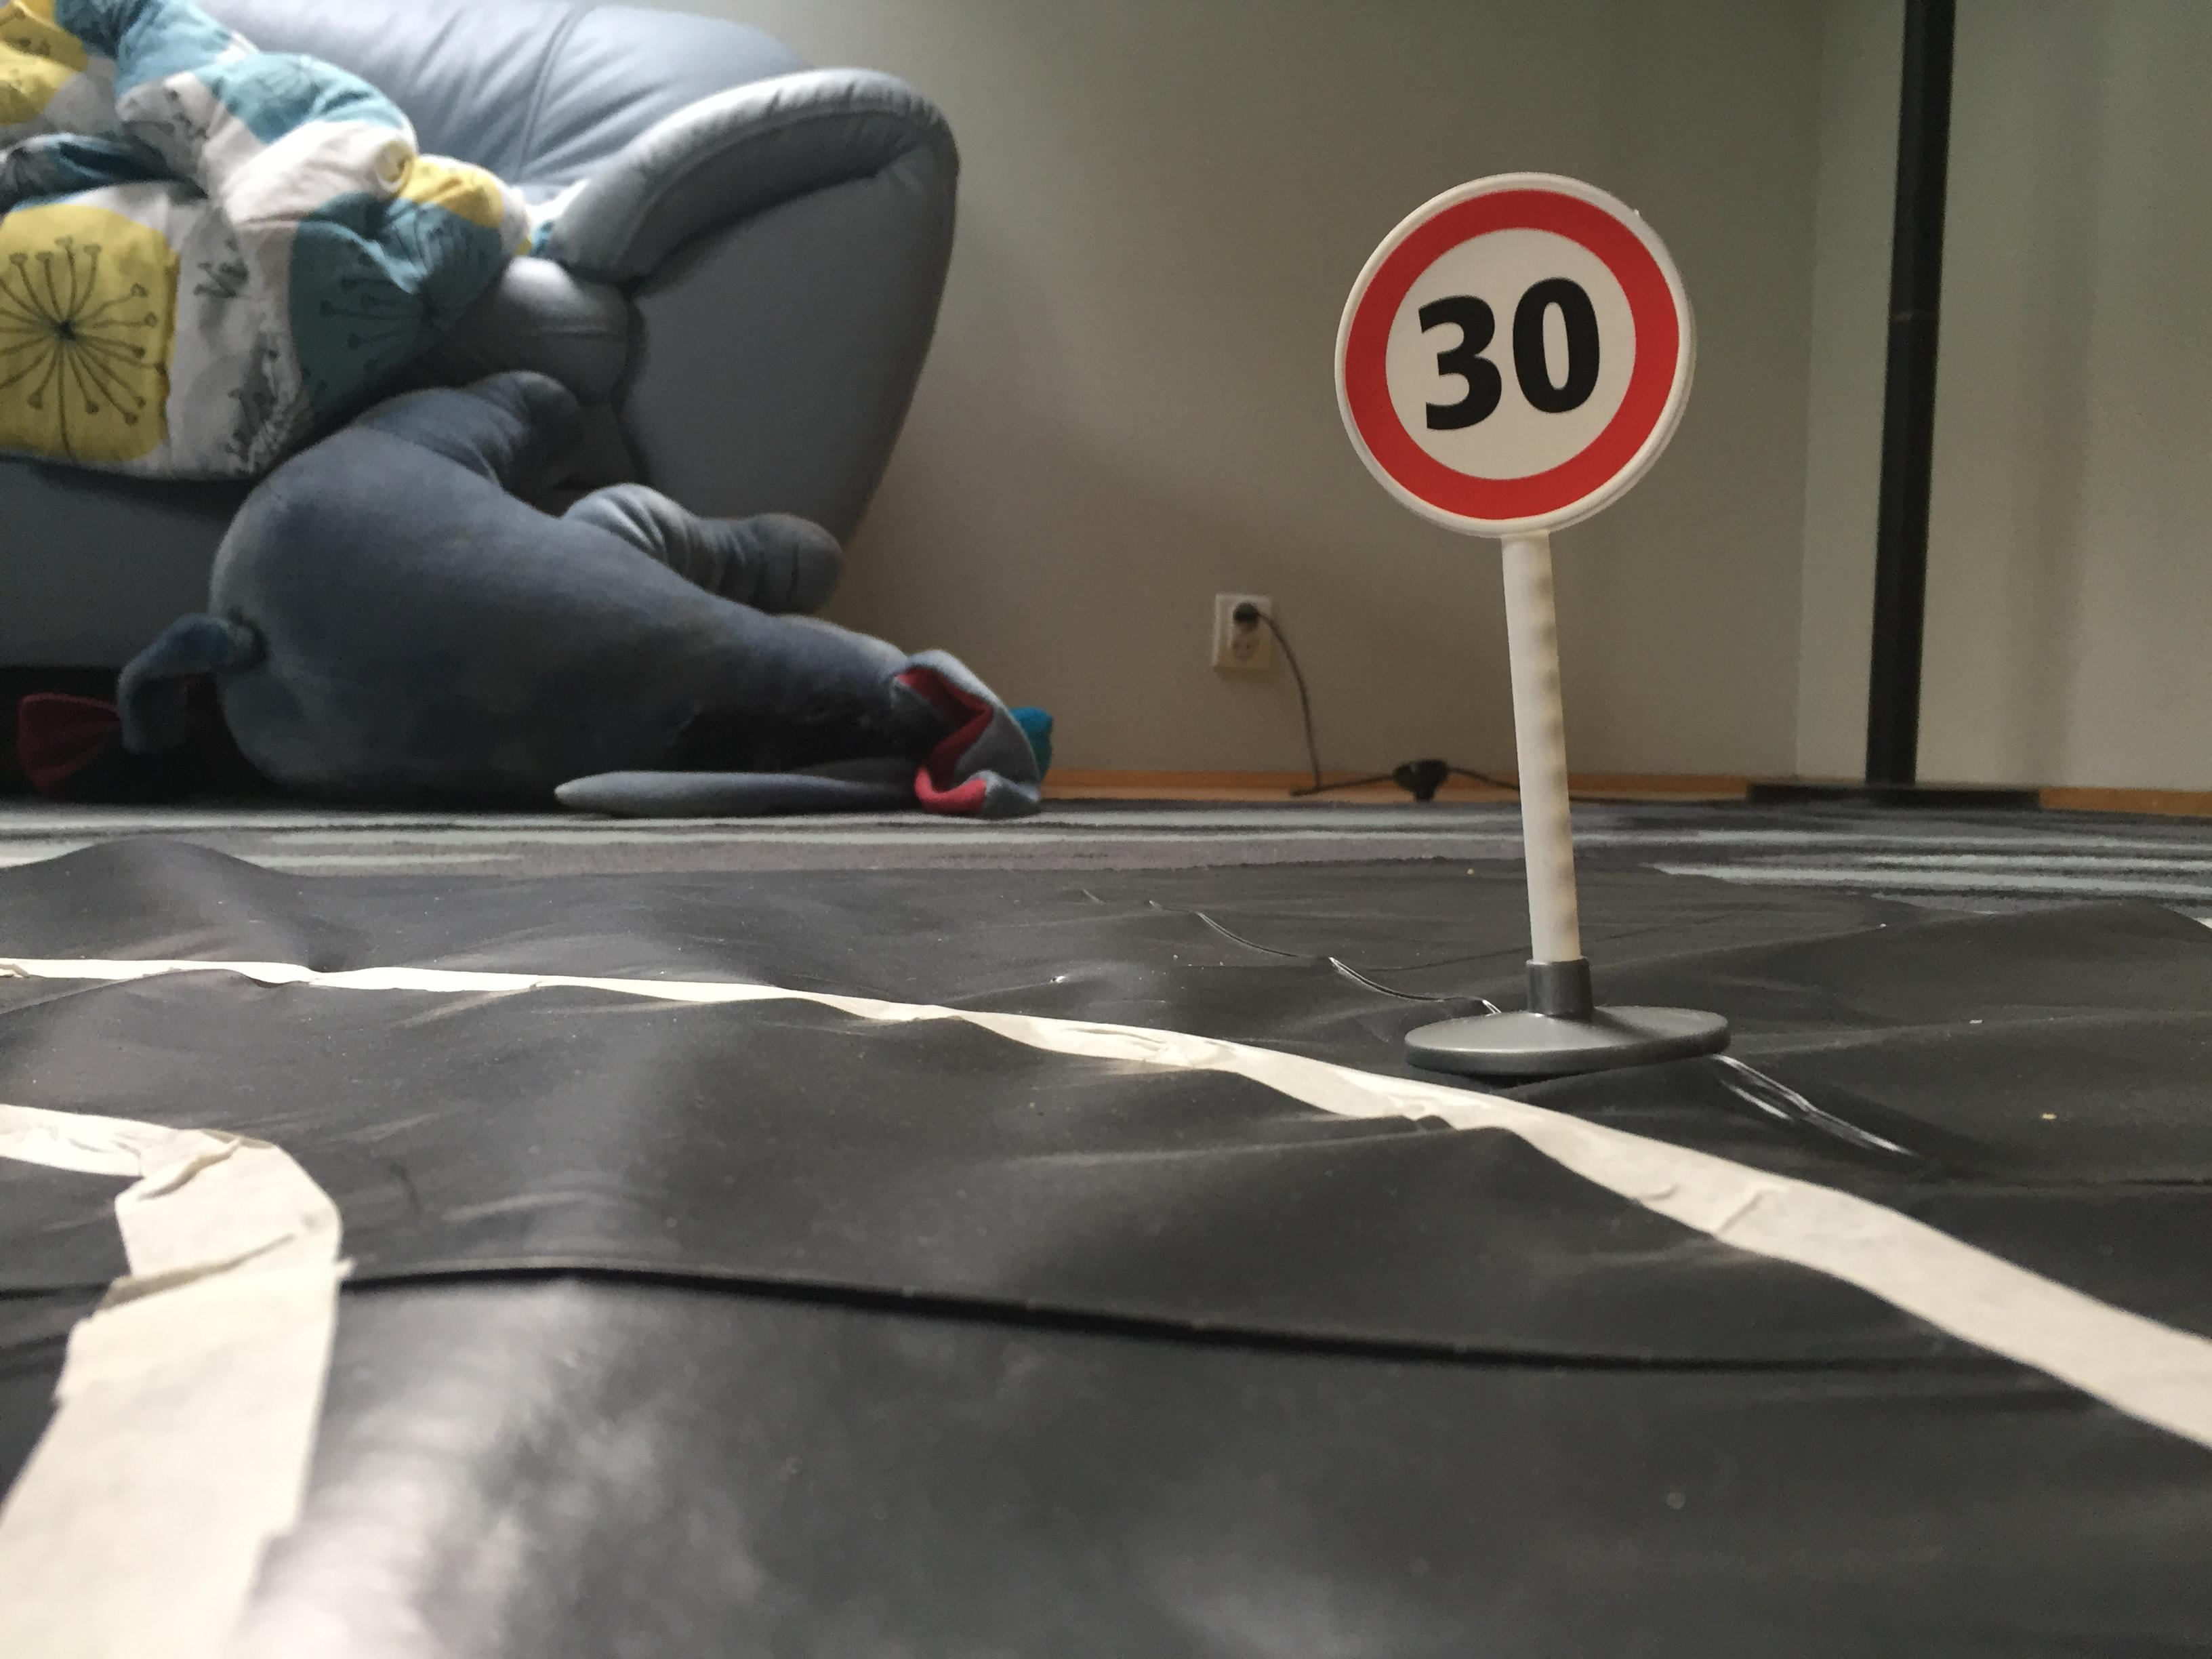speed: (1325, 164, 1714, 549)
